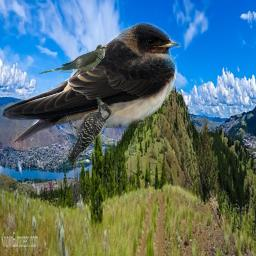Cuckoo: (37, 44, 105, 75)
Swallow: (1, 22, 181, 145)
Woodpecker: (66, 95, 112, 168)
